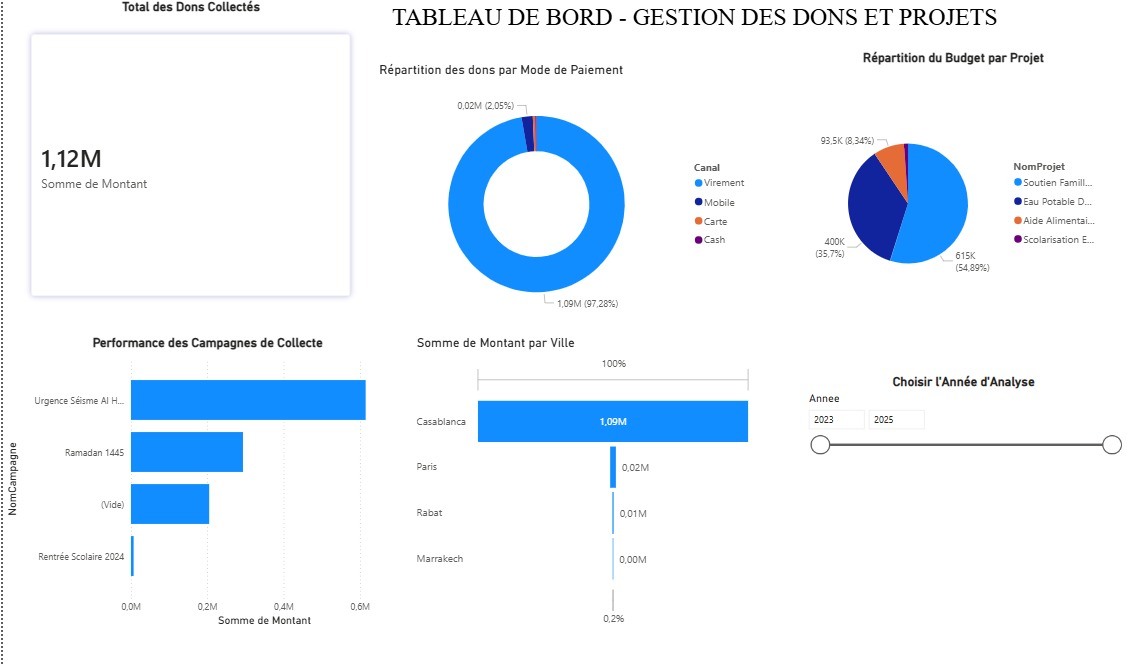

What the dashboard file says about the page in this screenshot:
{"tool":"powerbi","page":{"name":"Page 1","canvas":[1500,895],"ordinal":0},"visuals":[{"type":"cardVisual","title":"Total des Dons Collectés","fields":{"Data":["Sum(FactDons.Montant)"]},"box":[10,0,481.4,424.3],"z":0},{"type":"clusteredBarChart","title":"Performance des Campagnes de Collecte","fields":{"Category":["DimCampagne.NomCampagne"],"Y":["Sum(FactDons.Montant)"]},"box":[0,448,546,394],"z":1000},{"type":"pieChart","title":"Répartition du Budget par Projet","fields":{"Category":["DimProjet.NomProjet"],"Y":["Sum(FactDons.Montant)"]},"box":[1061.4,68.6,411.4,390],"z":2000},{"type":"slicer","title":"Choisir l''Année d''Analyse","fields":{"Values":["DimTemps.Annee"]},"box":[1061.4,500,438.6,298.6],"z":3000},{"type":"textbox","box":[481.4,0,881.4,68.6],"z":4000},{"type":"donutChart","title":"Répartition des dons par Mode de Paiement","fields":{"Category":["FactDons.Canal"],"Y":["Sum(FactDons.Montant)"]},"box":[497.1,82.9,505.7,361.4],"z":5000},{"type":"funnel","fields":{"Category":["DimDonateur.Ville"],"Y":["Sum(FactDons.Montant)"]},"box":[546,448,457,394],"z":5001}]}

Visuals, with their boxes in screenshot pixels (x1, y1, x2, y2), scaled from the page's 1500x895 canvas onto the 1127x665 screenshot:
"Total des Dons Collectés" cardVisual: crop(8, 0, 369, 315)
"Performance des Campagnes de Collecte" clusteredBarChart: crop(0, 333, 410, 626)
"Répartition du Budget par Projet" pieChart: crop(797, 51, 1107, 341)
"Choisir l''Année d''Analyse" slicer: crop(797, 372, 1126, 593)
textbox: crop(362, 0, 1024, 51)
"Répartition des dons par Mode de Paiement" donutChart: crop(373, 62, 753, 330)
funnel - DimDonateur.Ville x Sum(FactDons.Montant): crop(410, 333, 754, 626)
